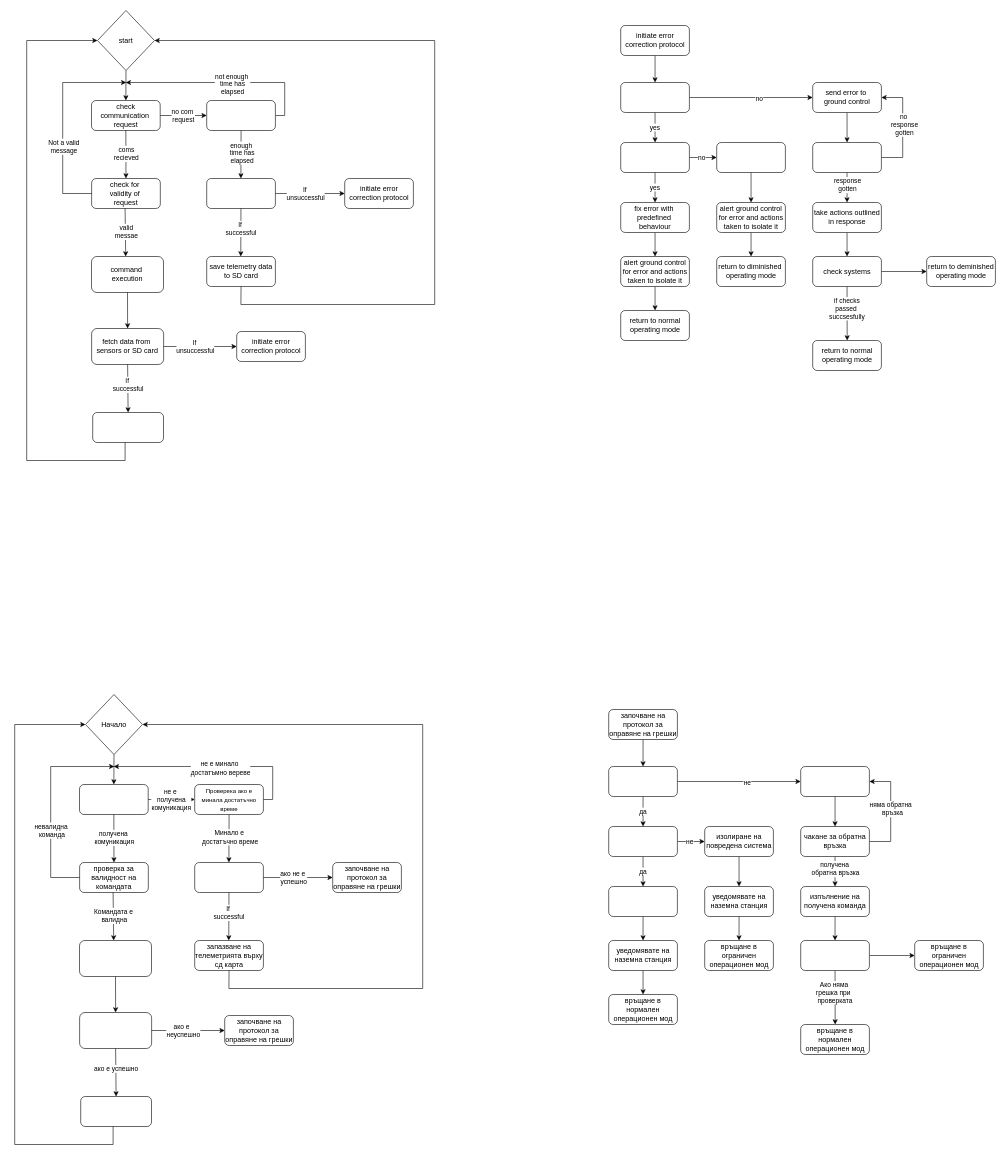
The diagram is 1006 pixels wide and 1160 high, and some of its shapes have lost their labels. The centre of each missing label's shape, as x and y in pixels:
"await response" belongs at [846,157].
"check if enough time has elapsed since last save" belongs at [240,115].
"check if error is fixable" belongs at [654,157].
"check if error is predefined" belongs at [654,97].
"gather telemetry" belongs at [240,193].
"isolate faults and faulty systems" belongs at [750,157].
"send data to ground station" belongs at [128,427].
"вземане на данни от сд карта" belongs at [115,1030].
"изпращане на грешка на наземна станция" belongs at [834,781].
"Изпращане на информацията до земята" belongs at [116,1111].
"изпълнение на командата" belongs at [115,958].
"оправяне на грешка по описан в програмата начин" belongs at [642,901].
"проверка дали грешката е постоянна" belongs at [642,781].
"проверка дали грешката може да се оправи" belongs at [642,841].
"проверка за получена комуникация" belongs at [113,799].
"проверка на систевата" belongs at [834,955].
"прочитане на телеметря" belongs at [228,877].
